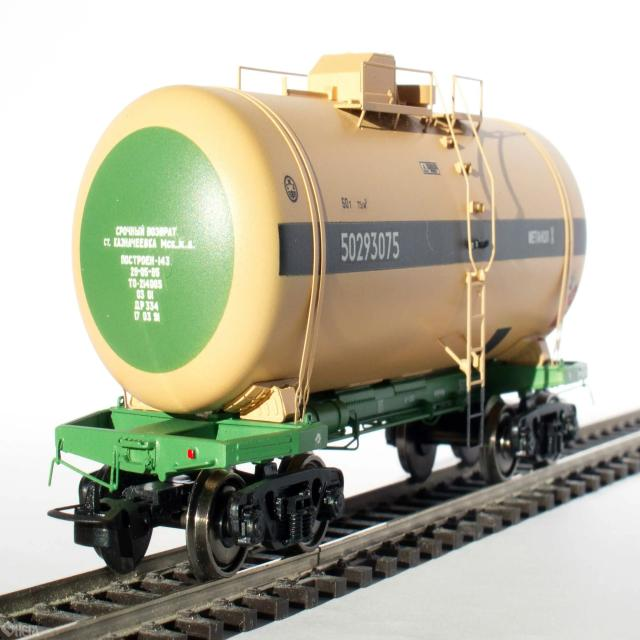Cart: (192, 452, 348, 580), (475, 390, 578, 486)
Tank car: (71, 81, 591, 411)
